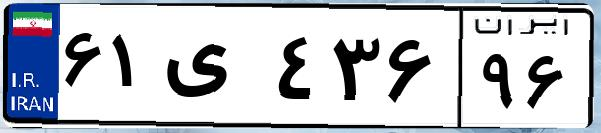1: (110, 28, 158, 98)
3: (330, 28, 385, 110)
4: (270, 28, 330, 110)
6: (385, 28, 445, 110), (57, 26, 110, 100), (525, 38, 570, 115)
9: (475, 38, 525, 113)
ی: (158, 20, 270, 120)
